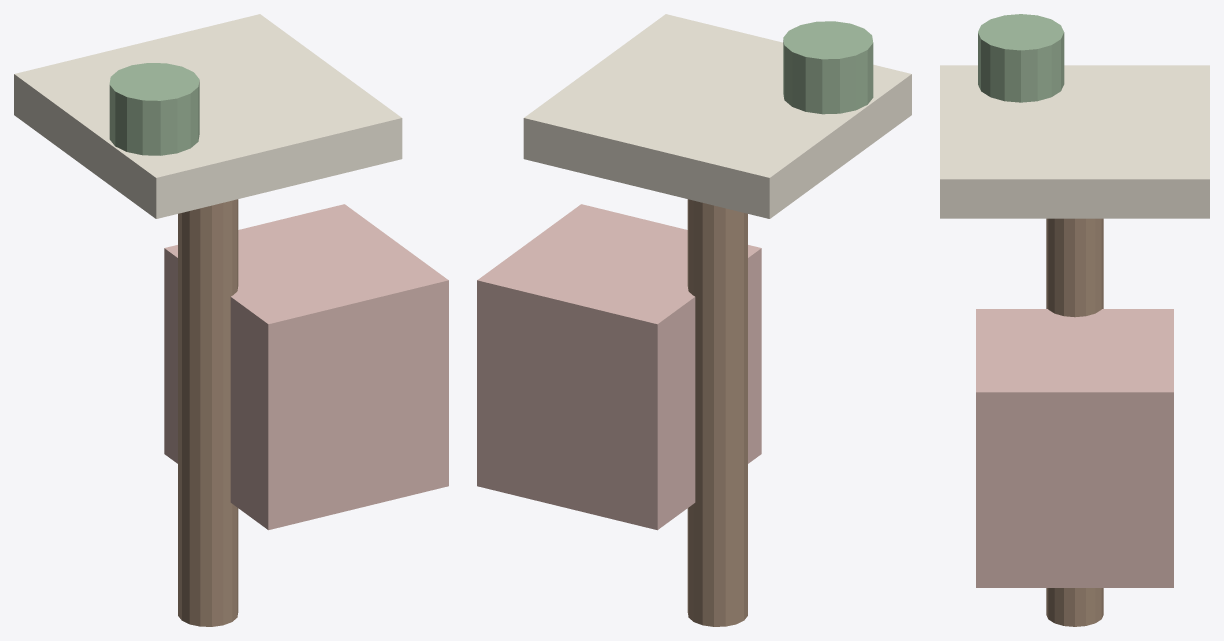
Rendered from cat_tree.glb.
3 views of the same model, side by side, from view 1: azimuth 30°, elevation 25°; view 2: azimuth 150°, elevation 25°; view 3: azimuth 270°, elevation 25° (orthographic). The views are drawn at different scales.
Parts seen in each view (by area): view 1: part_02, part_01, part_00, part_03; view 2: part_02, part_01, part_00, part_03; view 3: part_02, part_01, part_00, part_03.
Part boxes in pixels (x1,y1,x2,y2): part_02: [164, 204, 448, 530]; part_01: [14, 14, 402, 218]; part_00: [178, 199, 238, 626]; part_03: [109, 63, 199, 155]; part_02: [477, 204, 761, 530]; part_01: [523, 14, 911, 218]; part_00: [687, 199, 747, 626]; part_03: [783, 21, 873, 114]; part_02: [976, 309, 1173, 587]; part_01: [940, 65, 1209, 218]; part_00: [1046, 218, 1103, 626]; part_03: [978, 14, 1064, 102].
Size of the model in its own units: 0.95 by 1.67 by 0.75.
